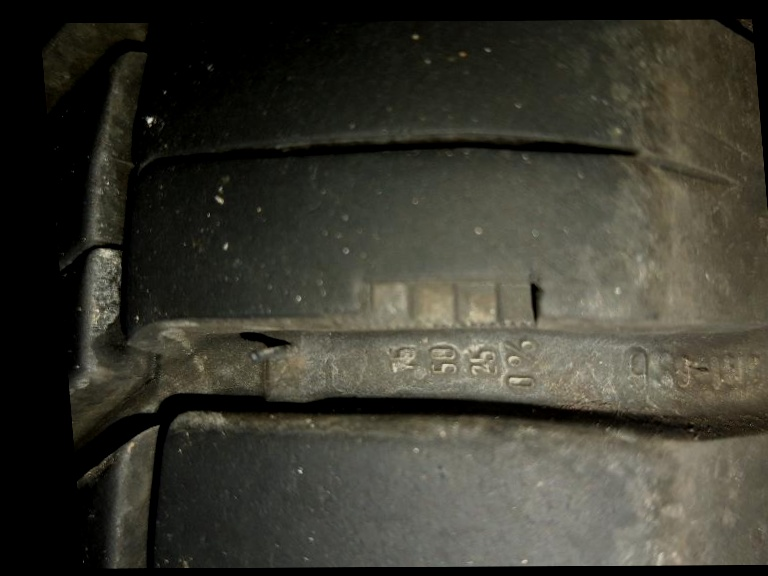temoin:90: (310, 267, 559, 346)
